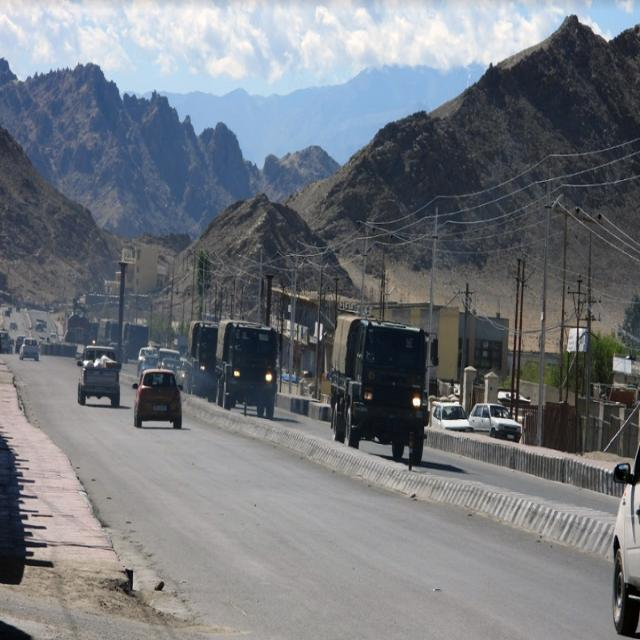car: (134, 369, 181, 429), (469, 404, 521, 441), (431, 402, 472, 430)
truck: (332, 316, 426, 464), (215, 320, 278, 418), (78, 344, 120, 407), (186, 320, 218, 399)
